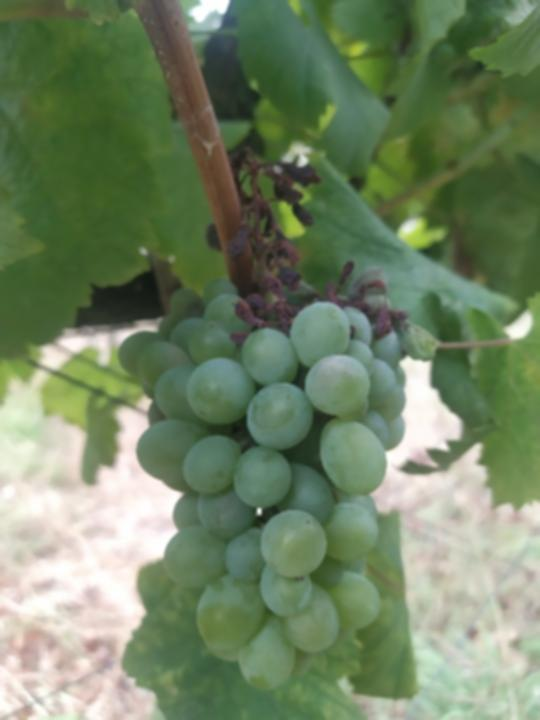grape: (113, 143, 442, 694)
